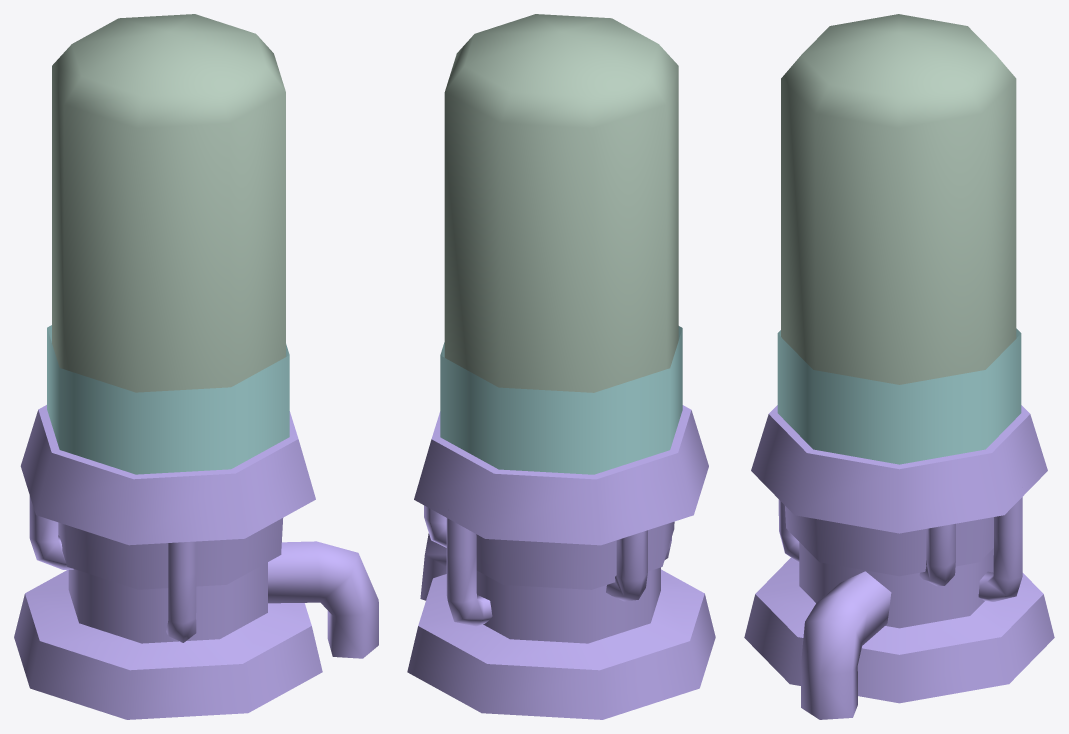
3 views of the same model, side by side, from view 1: azimuth 30°, elevation 25°; view 2: azimuth 150°, elevation 25°; view 3: azimuth 270°, elevation 25° (orthographic). The views are drawn at different scales.
Parts seen in each view (by area): view 1: Object37; view 2: Object37; view 3: Object37.
Boxes of the visible parts, x1,y1,x2,y2 form: Object37: [14, 14, 378, 719]; Object37: [407, 14, 715, 719]; Object37: [744, 14, 1054, 719].
Size of the model in its own units: 267 by 517 by 240.
